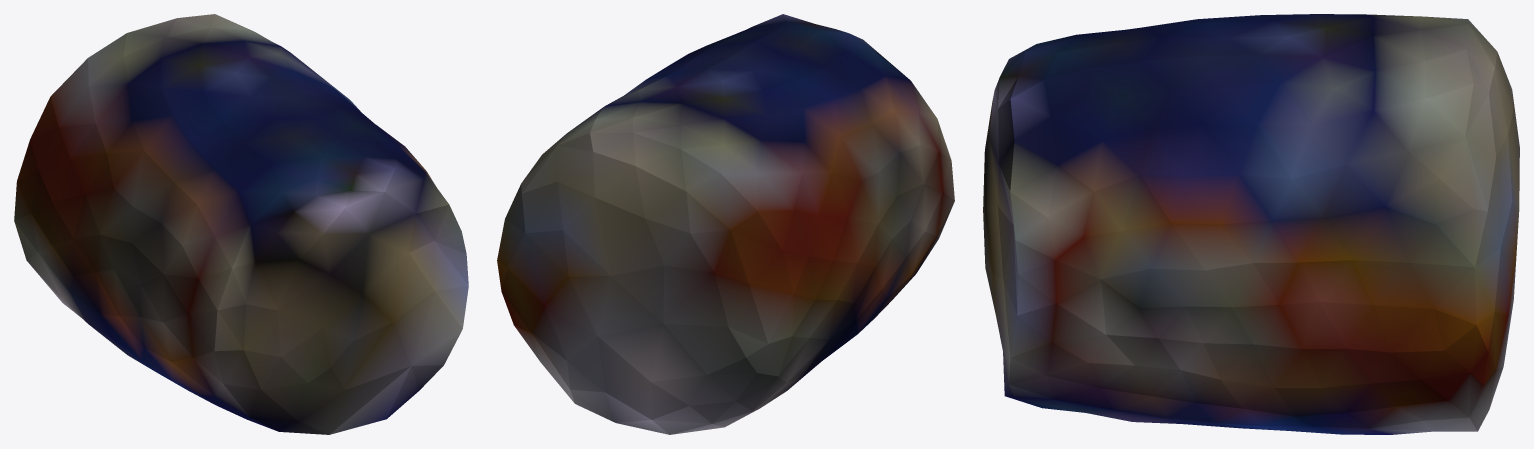
The model's file is maisels-barrel1.dae.
The picture shows the model from 3 angles, left to right: view 1: azimuth 30°, elevation 25°; view 2: azimuth 150°, elevation 25°; view 3: azimuth 270°, elevation 25°; orthographic projection. The views are drawn at different scales.
Visible parts, largest first — view 1: node; view 2: node; view 3: node.
Part boxes in pixels (left/top/right/bottom): node: left=14, top=14, right=468, bottom=434; node: left=497, top=14, right=954, bottom=434; node: left=983, top=14, right=1519, bottom=434.
Size of the model in its own units: 0.1864 by 0.1827 by 0.2348.
